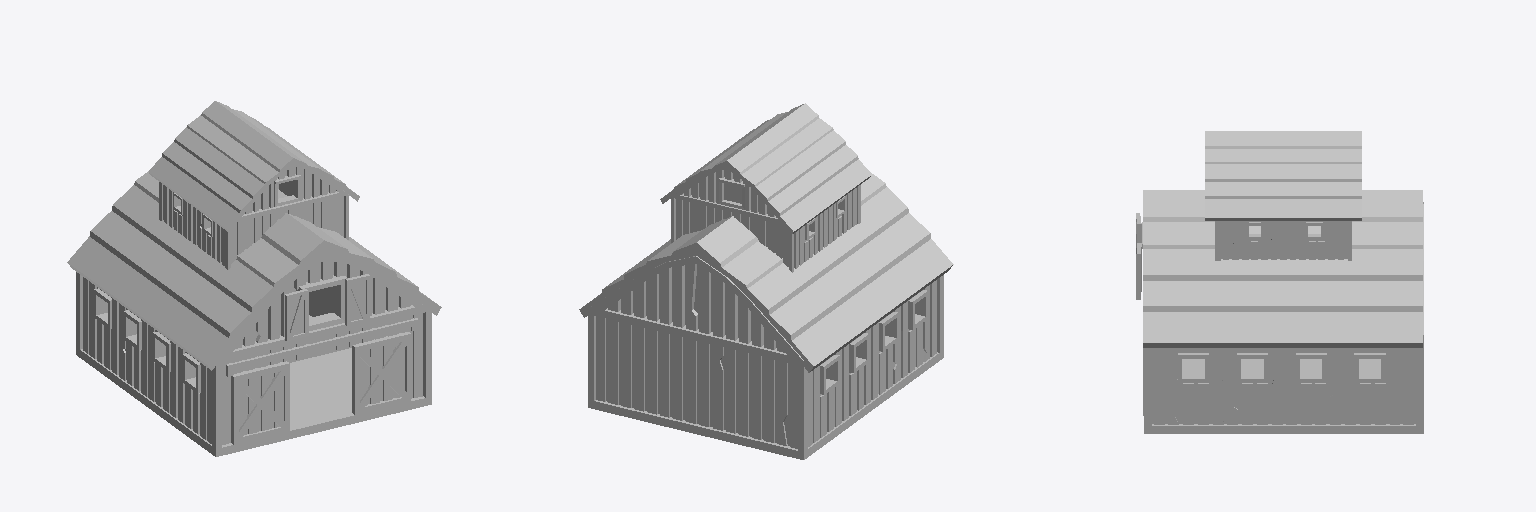
Rendered from BigBarn.obj.
3 renders of one model, left to right at view 1: azimuth 30°, elevation 25°; view 2: azimuth 150°, elevation 25°; view 3: azimuth 270°, elevation 25°, orthographic.
Visible parts, largest first — view 1: BigBarn, BigBarn_Door2, BigBarn_Door, BigBarn_Window, BigBarn_Window2; view 2: BigBarn; view 3: BigBarn.
Boxes of the visible parts, x1,y1,x2,y2 form: BigBarn: [67, 101, 441, 456]; BigBarn_Door2: [231, 361, 289, 444]; BigBarn_Door: [352, 332, 410, 414]; BigBarn_Window: [345, 274, 369, 325]; BigBarn_Window2: [285, 289, 308, 341]; BigBarn: [579, 103, 953, 459]; BigBarn: [1142, 131, 1423, 433].
Size of the model in its own units: 7.73 by 7.89 by 8.22.